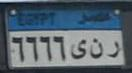6: (52, 34, 67, 62), (11, 35, 25, 63), (39, 34, 52, 63), (25, 36, 39, 62)
noon: (89, 37, 104, 61)
raa: (105, 38, 121, 62)
yaa: (70, 37, 87, 63)
